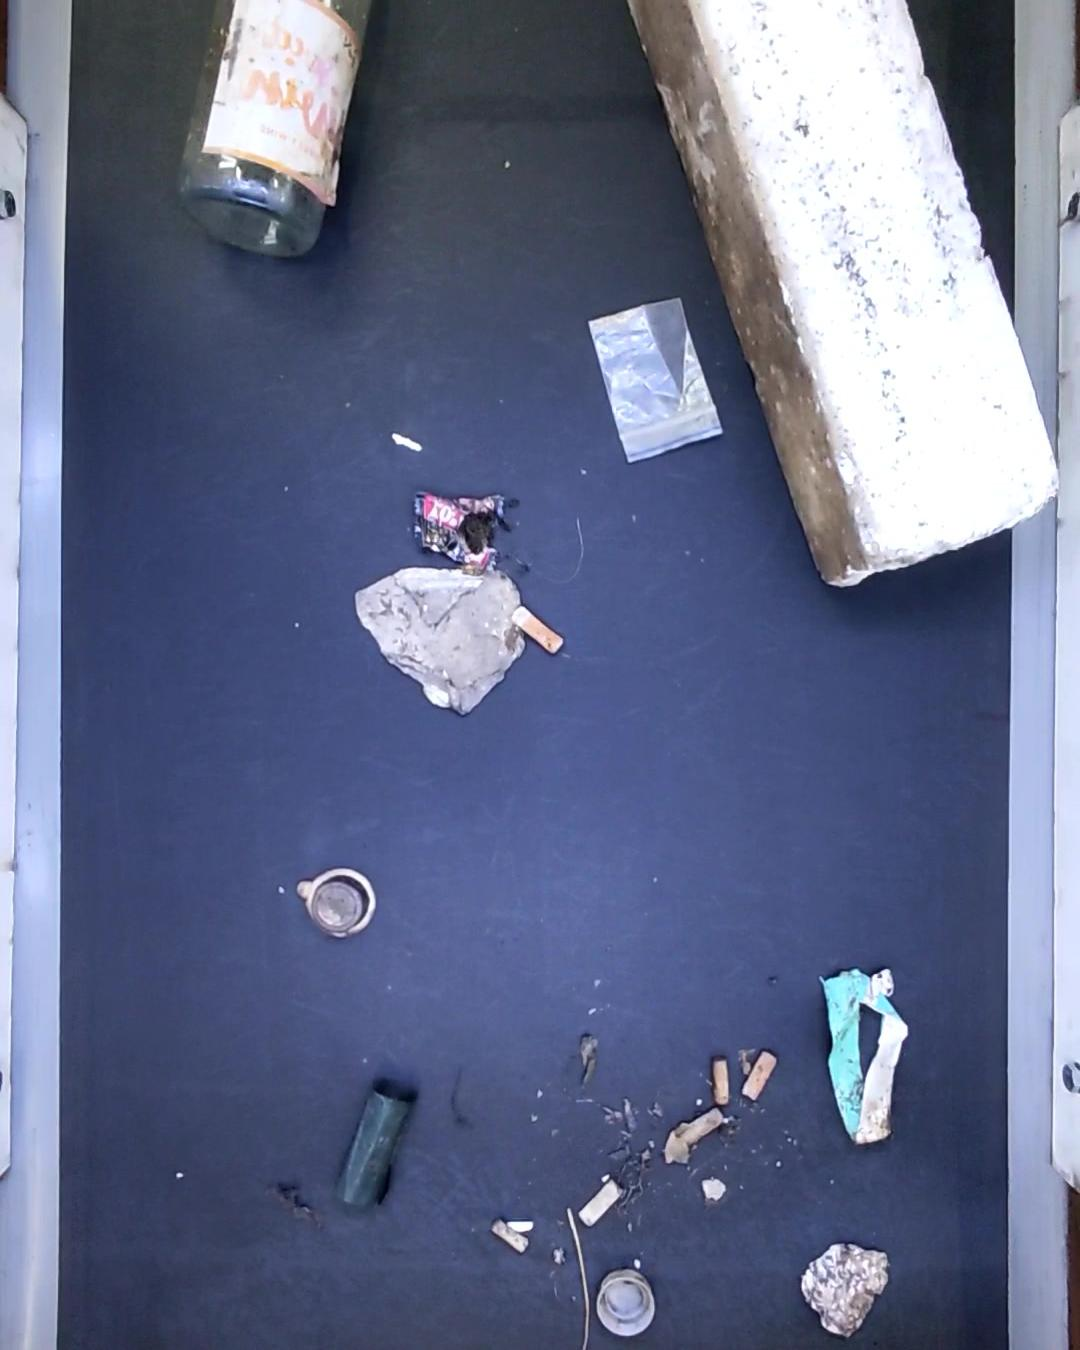Snoep snack en chips verpakkingen: (409, 488, 514, 575)
